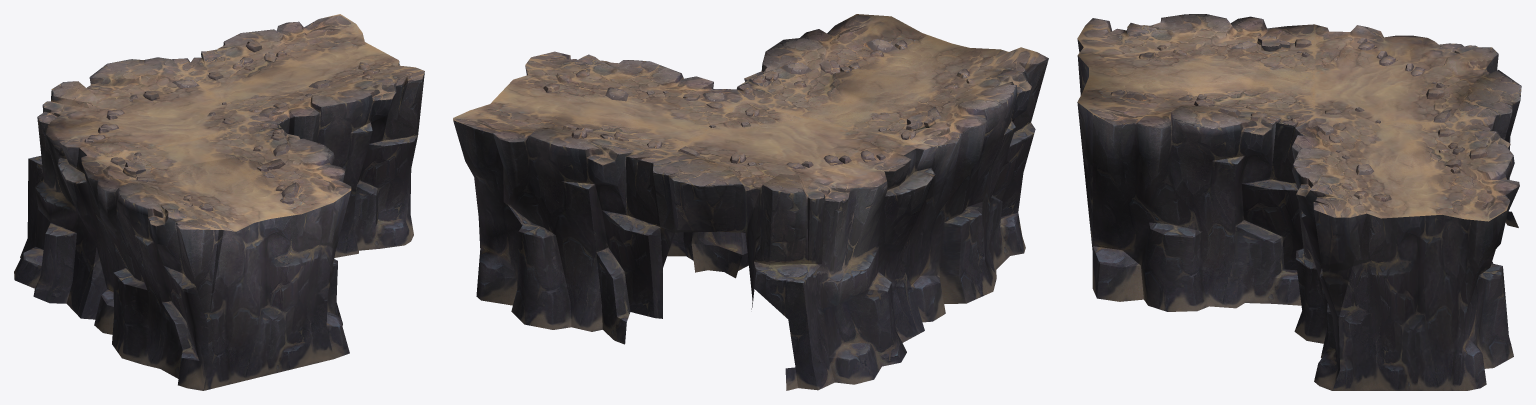
3 renders of one model, left to right at view 1: azimuth 30°, elevation 25°; view 2: azimuth 150°, elevation 25°; view 3: azimuth 270°, elevation 25°, orthographic. The views are drawn at different scales.
Visible parts, largest first — view 1: 58025_01; view 2: 58025_01; view 3: 58025_01.
Boxes of the visible parts, x1,y1,x2,y2 form: 58025_01: (14,14,424,390); 58025_01: (453,14,1048,390); 58025_01: (1077,14,1521,390).
Size of the model in its own units: 3059 by 1349 by 2877.
